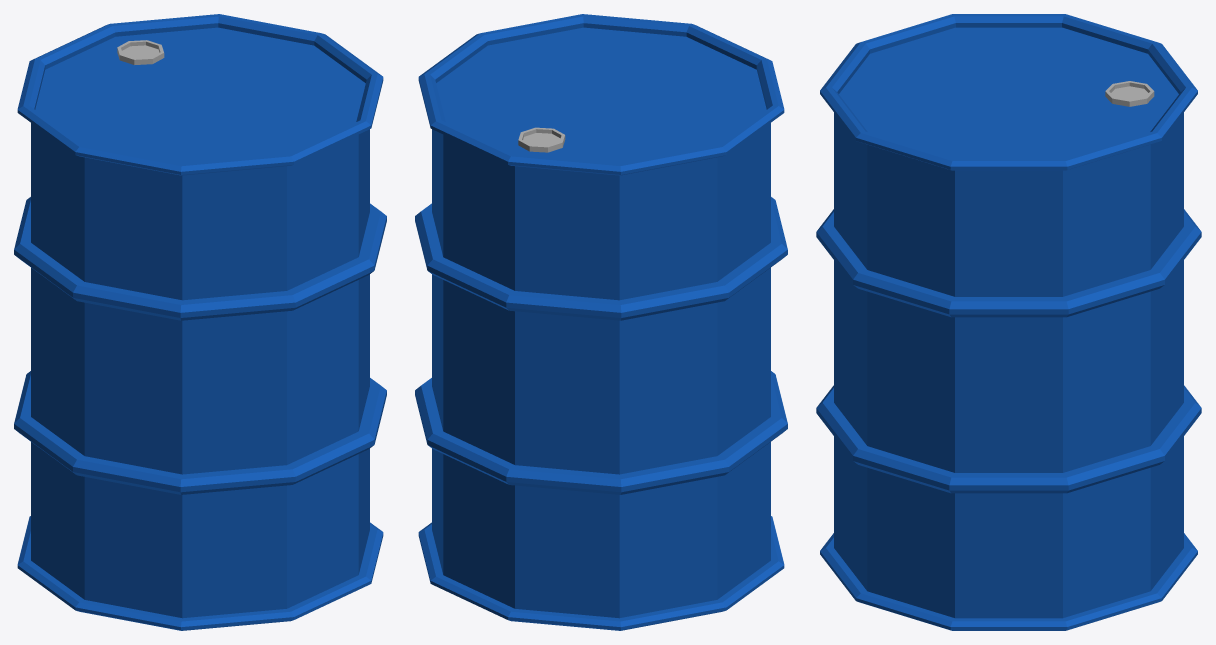
Rendered from Barrel.fbx.
3 renders of one model, left to right at view 1: azimuth 30°, elevation 25°; view 2: azimuth 150°, elevation 25°; view 3: azimuth 270°, elevation 25°, orthographic.
Parts seen in each view (by area): view 1: Low_Poly_Barrel_02; view 2: Low_Poly_Barrel_02; view 3: Low_Poly_Barrel_02.
Boxes of the visible parts, x1,y1,x2,y2 form: Low_Poly_Barrel_02: [14, 14, 386, 630]; Low_Poly_Barrel_02: [415, 14, 787, 630]; Low_Poly_Barrel_02: [816, 14, 1201, 630].
Bounding box in the file's own units: 70.43 × 99.64 × 74.06.
